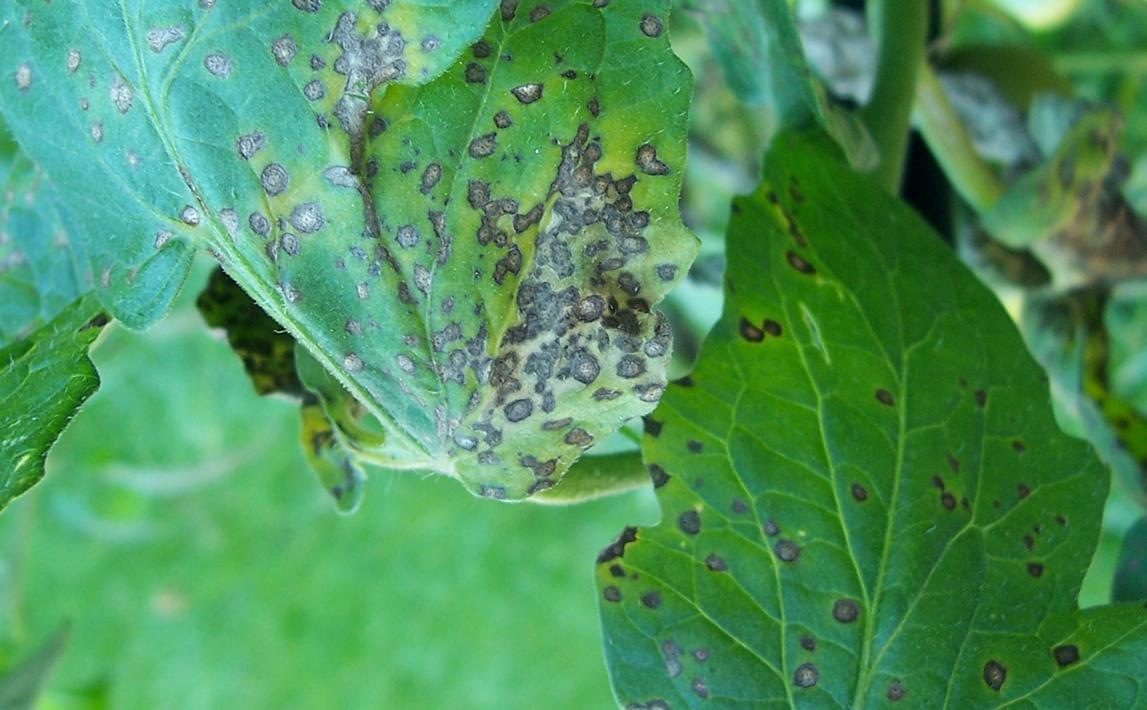Tomato Septoria leaf spot: (565, 99, 1147, 710), (0, 0, 672, 509)
